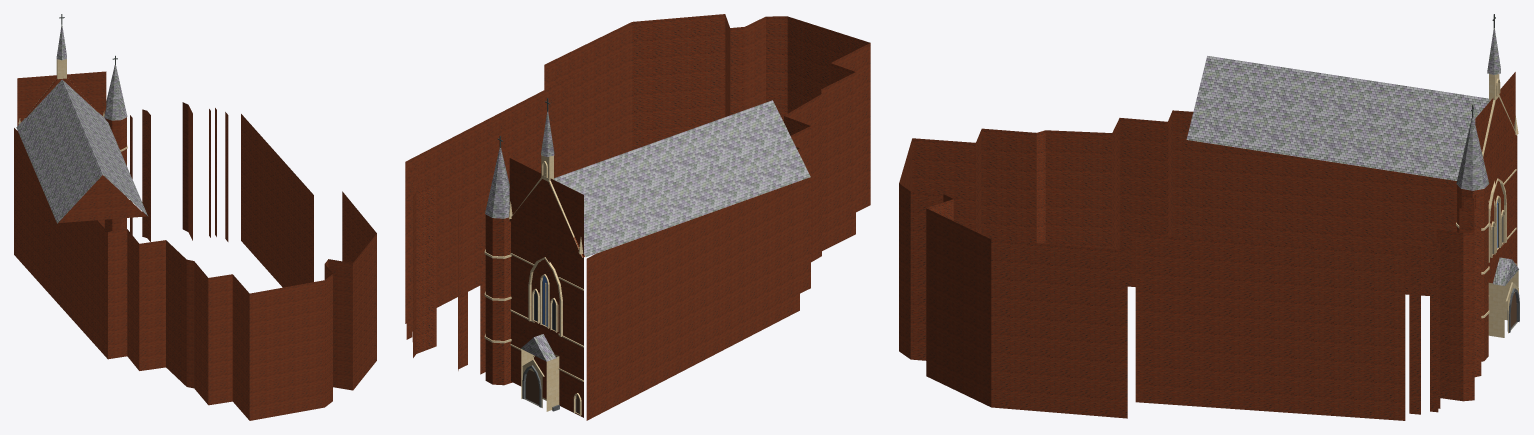
3 renders of one model, left to right at view 1: azimuth 30°, elevation 25°; view 2: azimuth 150°, elevation 25°; view 3: azimuth 270°, elevation 25°, orthographic. The views are drawn at different scales.
Visible parts, largest first — view 1: bldg_353285592_landmark; view 2: bldg_353285592_landmark; view 3: bldg_353285592_landmark.
Boxes of the visible parts, x1=… form: bldg_353285592_landmark: x1=14, y1=14, x2=376, y2=420; bldg_353285592_landmark: x1=405, y1=14, x2=870, y2=420; bldg_353285592_landmark: x1=899, y1=14, x2=1519, y2=420.
Bounding box in the file's own units: 30.09 × 27.2 × 48.88.
Materials: 11 (5 with a texture image).
